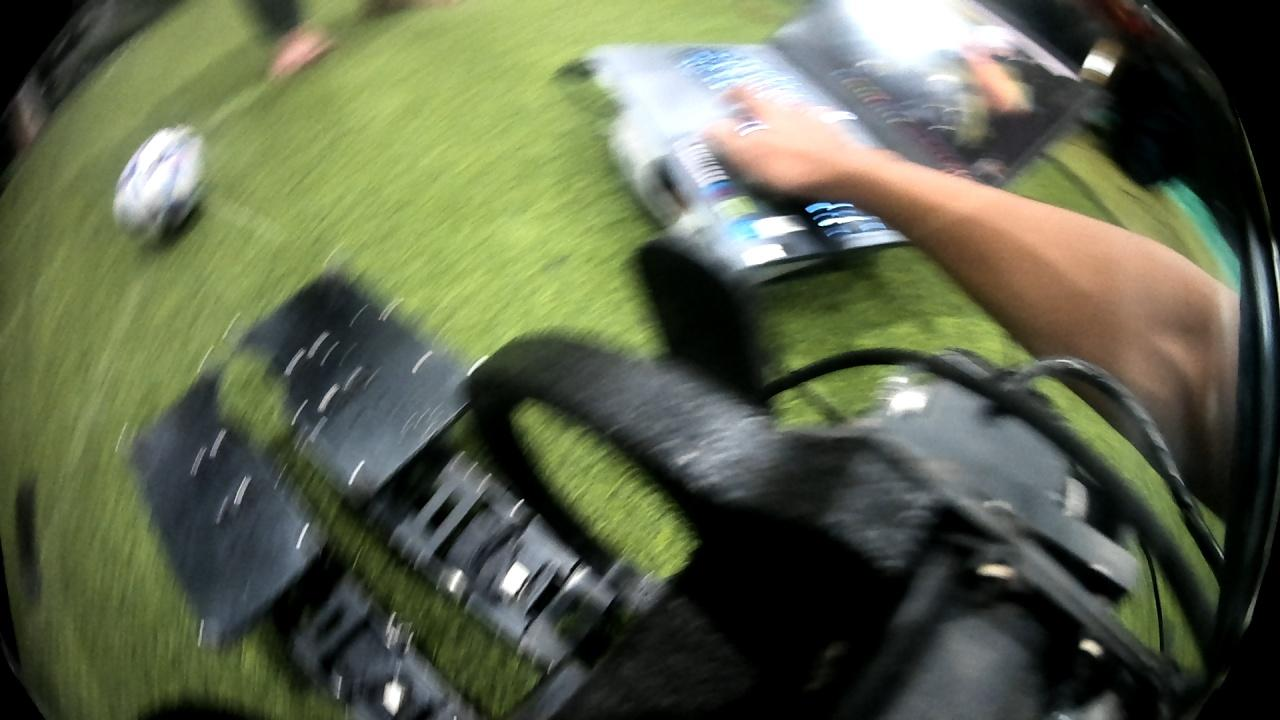ball: (101, 113, 216, 259)
